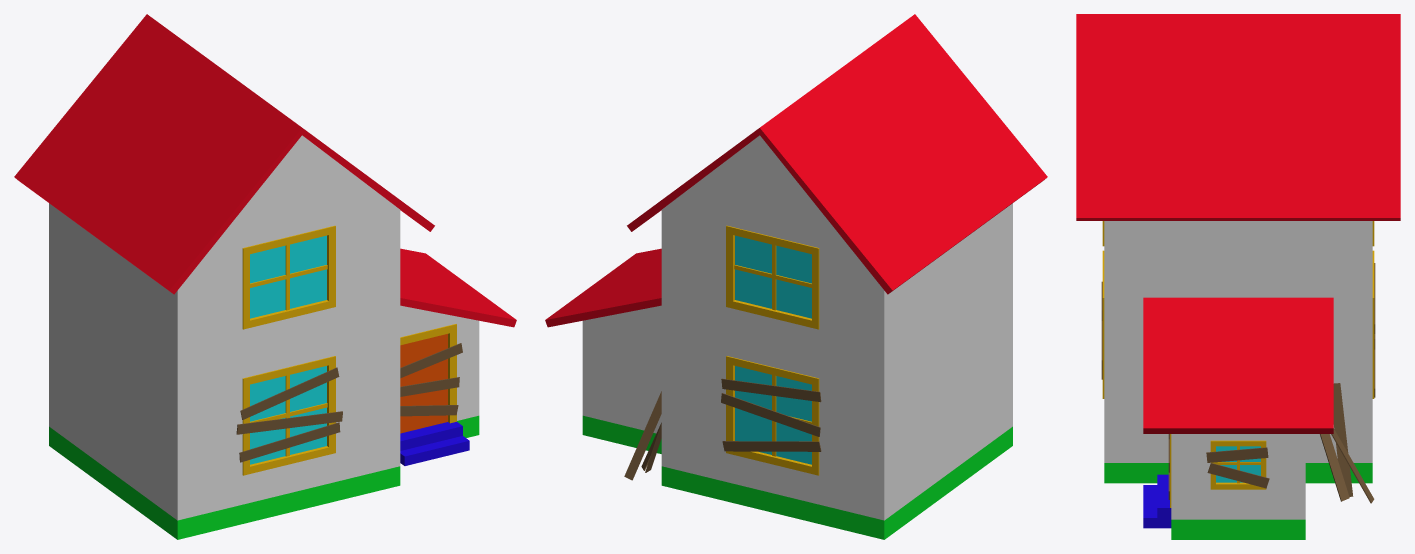
The model's file is Randomhouse.fbx.
The picture shows the model from 3 angles, left to right: view 1: azimuth 30°, elevation 25°; view 2: azimuth 150°, elevation 25°; view 3: azimuth 270°, elevation 25°; orthographic projection. The views are drawn at different scales.
Visible parts, largest first — view 1: Random house; view 2: Random house; view 3: Random house.
Boxes of the visible parts, x1=… form: Random house: x1=14, y1=14, x2=516, y2=539; Random house: x1=545, y1=14, x2=1047, y2=539; Random house: x1=1076, y1=14, x2=1400, y2=539.
Size of the model in its own units: 819 by 817 by 580.
